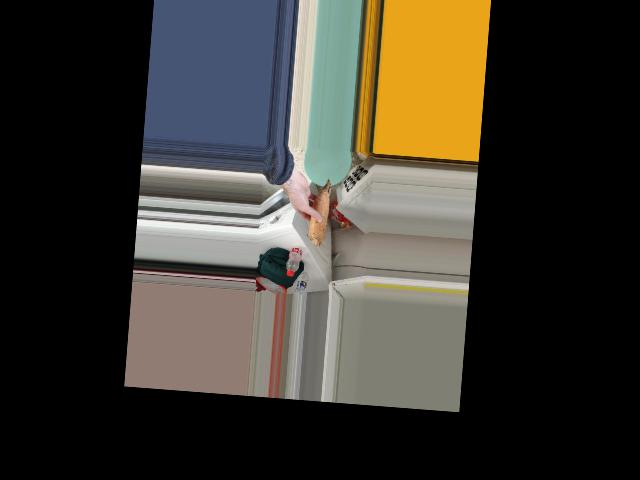sweet_potato: (307, 178, 336, 244)
